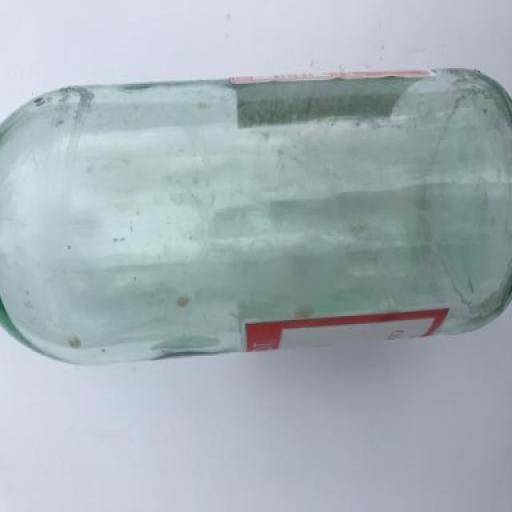glass: (0, 25, 512, 392)
